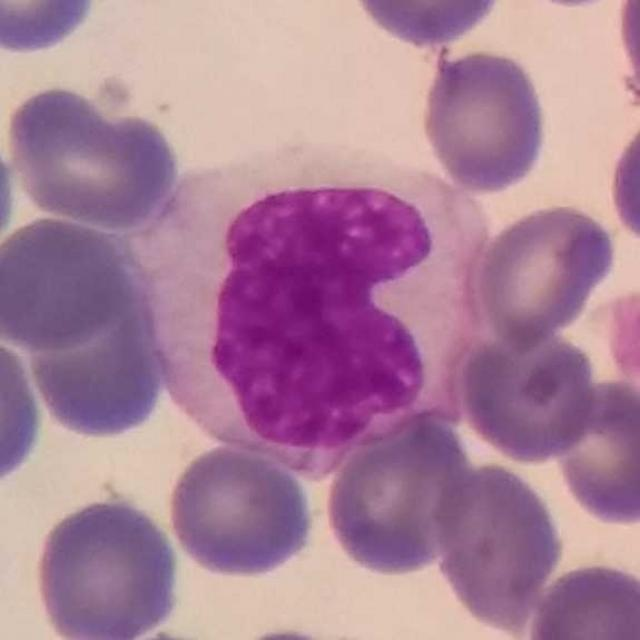Monocyte: (128, 137, 492, 477)
RBC: (15, 249, 174, 443), (318, 407, 482, 580), (2, 77, 188, 228), (428, 458, 568, 634), (29, 492, 184, 640), (162, 441, 320, 581), (472, 200, 620, 348), (455, 323, 601, 465), (416, 44, 552, 196), (0, 211, 137, 354), (550, 377, 640, 529), (570, 282, 640, 420), (524, 557, 640, 640), (348, 0, 510, 49), (0, 327, 46, 494), (0, 0, 105, 58), (604, 105, 640, 252), (610, 0, 640, 112), (0, 154, 30, 251)
